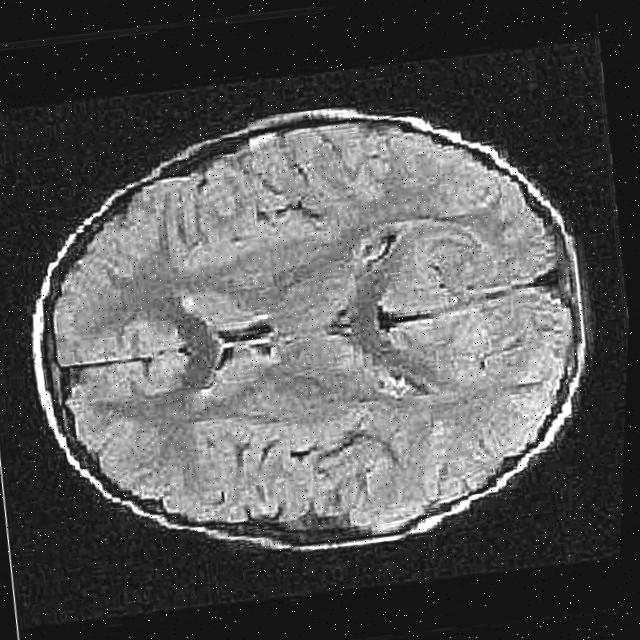NoTumor: (0, 64, 627, 594)
